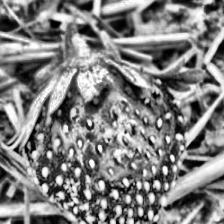Gray Mold: (74, 89, 179, 181)
